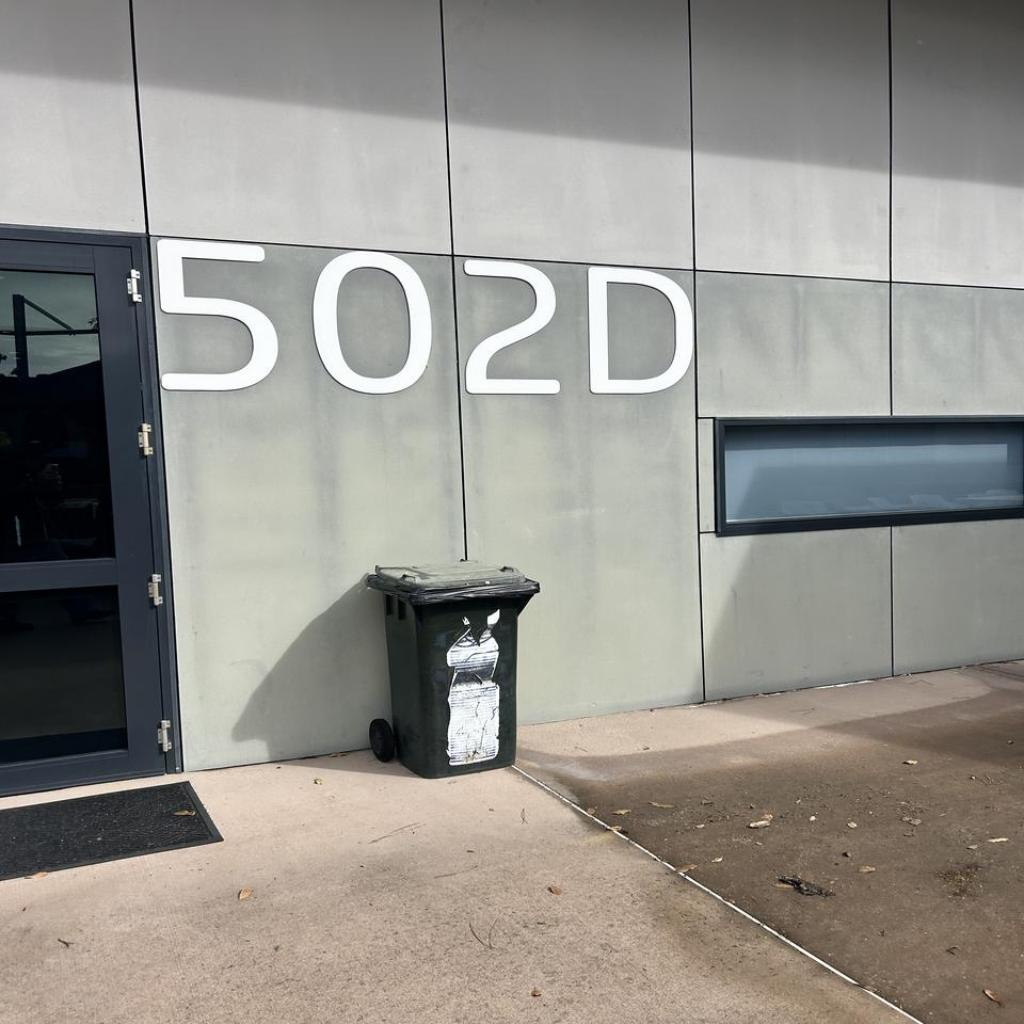BuildingCodes: (154, 232, 698, 398)
